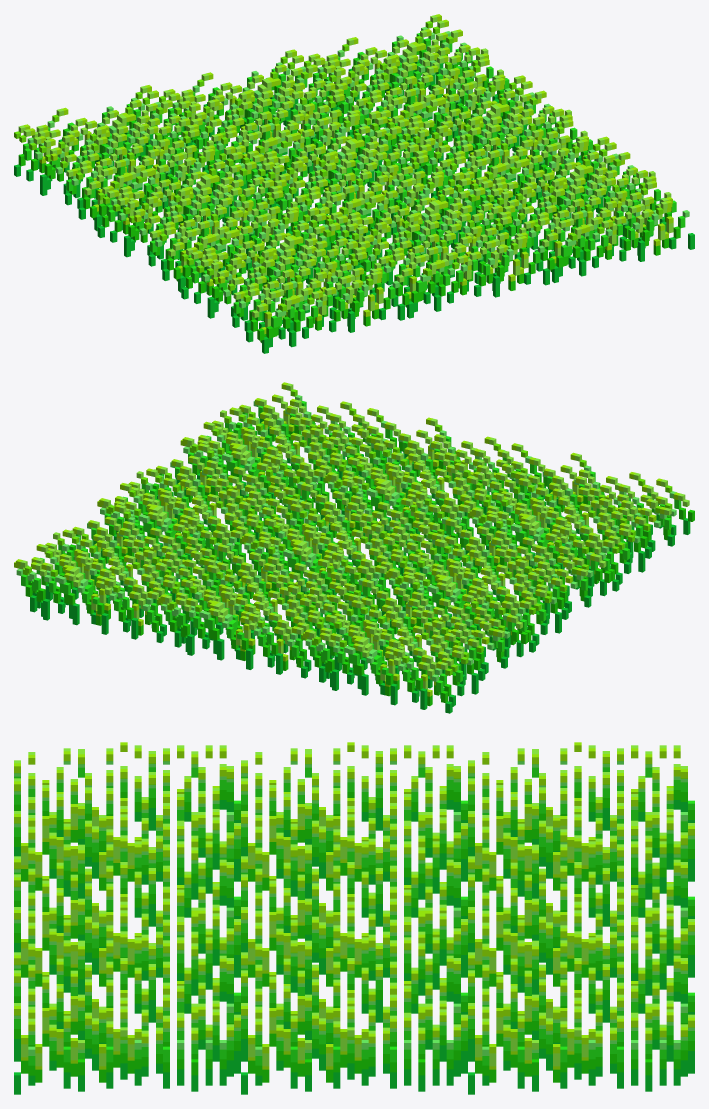
File: grass4.obj
The picture shows the model from 3 angles, top to bottom: view 1: azimuth 30°, elevation 25°; view 2: azimuth 150°, elevation 25°; view 3: azimuth 270°, elevation 25°; orthographic projection. The views are drawn at different scales.
Size of the model in its own units: 9.6 by 1.1 by 9.6.
Materials: 1 (1 with a texture image).
